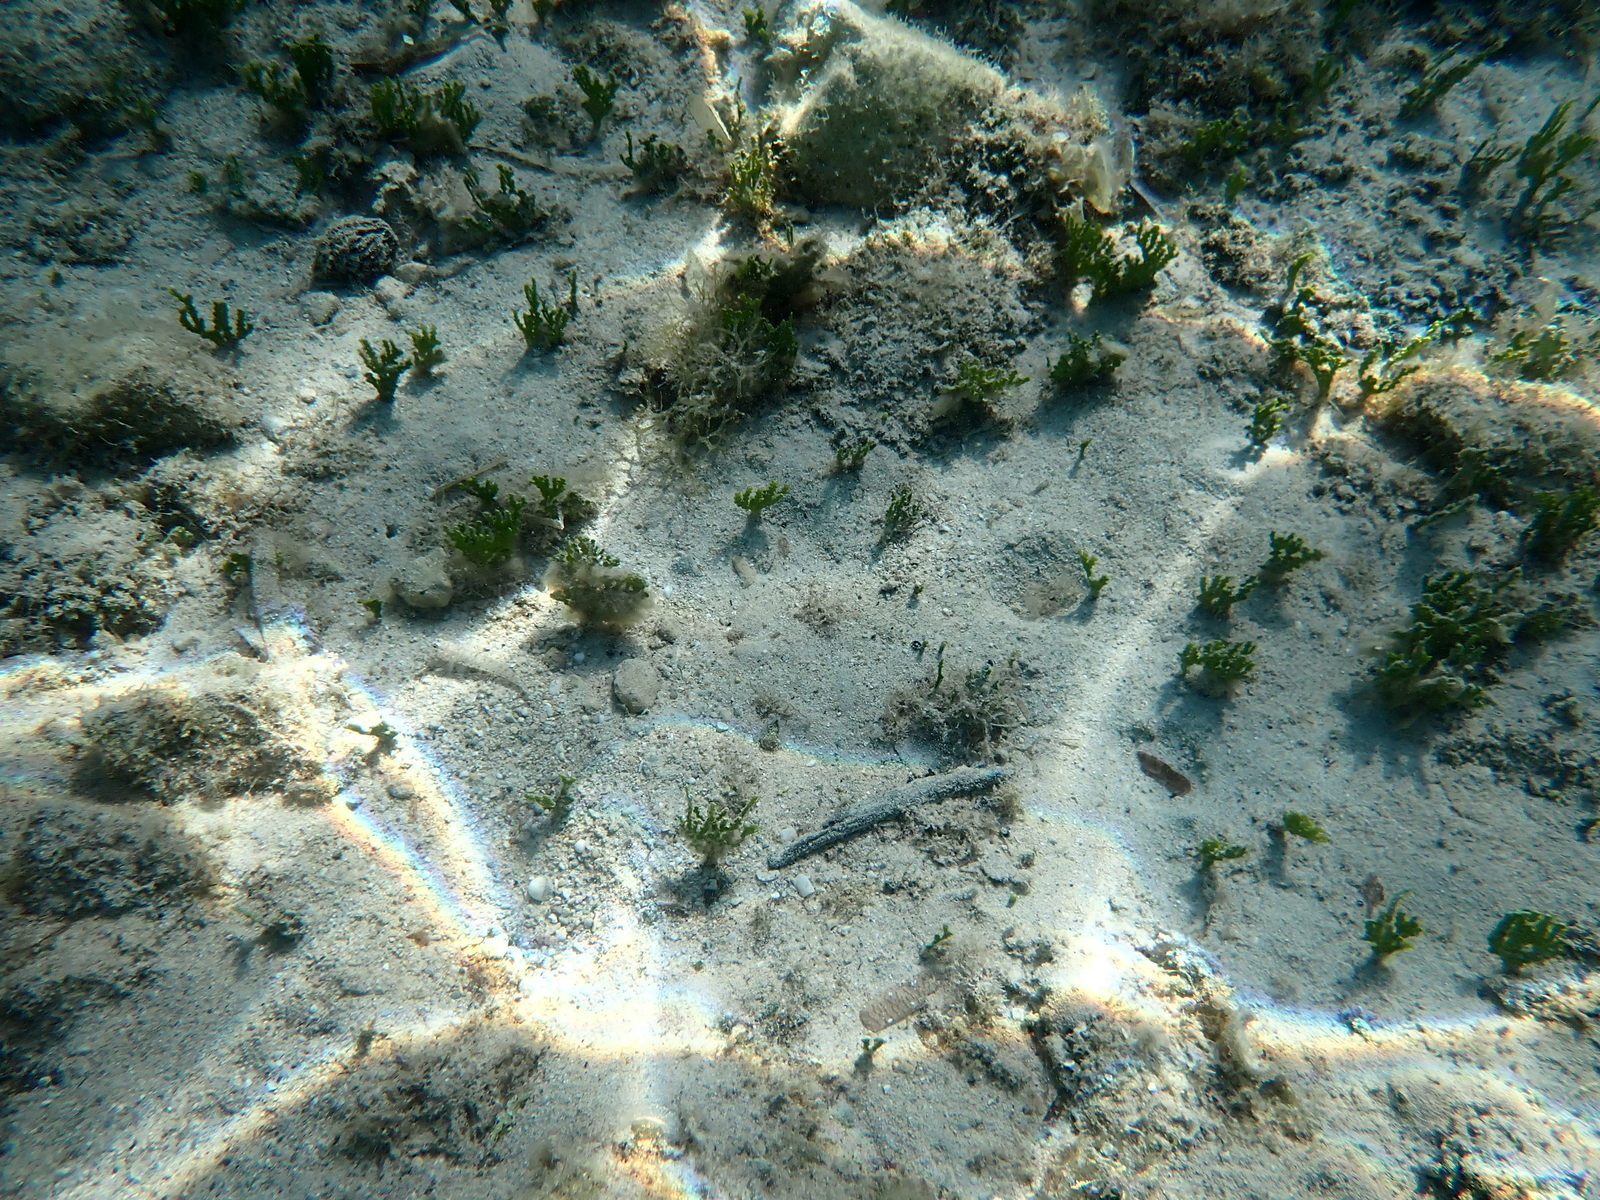halimeda: (1378, 650, 1485, 713), (671, 788, 762, 852), (1488, 908, 1567, 976), (173, 281, 253, 345), (1411, 603, 1506, 657), (1521, 495, 1600, 560), (721, 135, 775, 228), (506, 274, 569, 345), (244, 64, 307, 136), (354, 337, 417, 405), (944, 348, 1028, 396), (1364, 900, 1424, 963), (1174, 116, 1255, 160), (368, 78, 426, 137), (572, 62, 619, 132), (1123, 224, 1180, 281), (1513, 328, 1576, 379), (1060, 216, 1117, 271), (624, 134, 684, 187), (1434, 43, 1490, 91), (1522, 159, 1574, 209), (287, 39, 330, 100), (1531, 100, 1570, 160), (1202, 639, 1260, 679), (1308, 345, 1354, 395), (436, 79, 480, 131), (1421, 574, 1490, 606), (1466, 140, 1519, 183), (1267, 529, 1327, 566), (551, 538, 619, 568), (733, 482, 791, 517), (443, 523, 493, 561), (1280, 809, 1332, 843), (887, 483, 922, 532), (1199, 572, 1251, 605), (483, 505, 522, 545), (1062, 330, 1101, 368), (1356, 339, 1380, 400), (1524, 603, 1569, 635), (1398, 78, 1439, 112), (723, 76, 748, 129), (1204, 833, 1252, 861), (1385, 337, 1435, 362), (1254, 396, 1283, 439), (527, 92, 559, 130), (1427, 308, 1475, 333), (1311, 52, 1343, 89), (559, 265, 583, 313), (743, 5, 774, 43), (530, 471, 564, 504), (833, 437, 871, 466), (1223, 164, 1246, 212), (758, 316, 801, 342), (409, 326, 438, 362), (1271, 108, 1301, 140), (462, 476, 494, 504), (1493, 343, 1531, 364), (495, 161, 514, 200), (929, 923, 952, 952), (460, 169, 481, 200), (734, 291, 762, 315), (1293, 248, 1308, 291), (1179, 640, 1199, 672), (860, 1032, 882, 1061), (506, 495, 530, 519), (748, 256, 774, 279), (1078, 547, 1099, 572), (1296, 285, 1314, 313), (1091, 575, 1110, 600), (528, 790, 556, 805), (722, 305, 746, 321), (513, 189, 529, 209), (562, 770, 573, 795), (784, 221, 795, 245), (937, 659, 947, 686), (1078, 437, 1090, 458)
